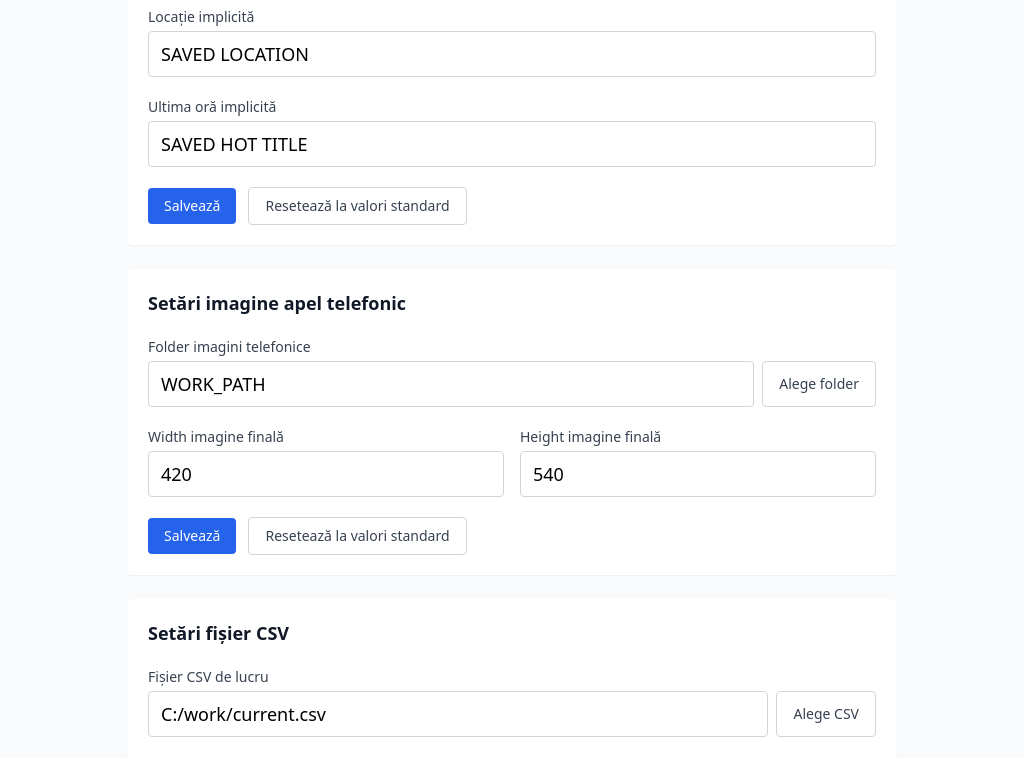
DefaultProjectSettingsPage › selects phone image work path through the service
(page scrolled)
Click the button "Alege folder": [819, 384] box x1=762 y1=361 x2=876 y2=407
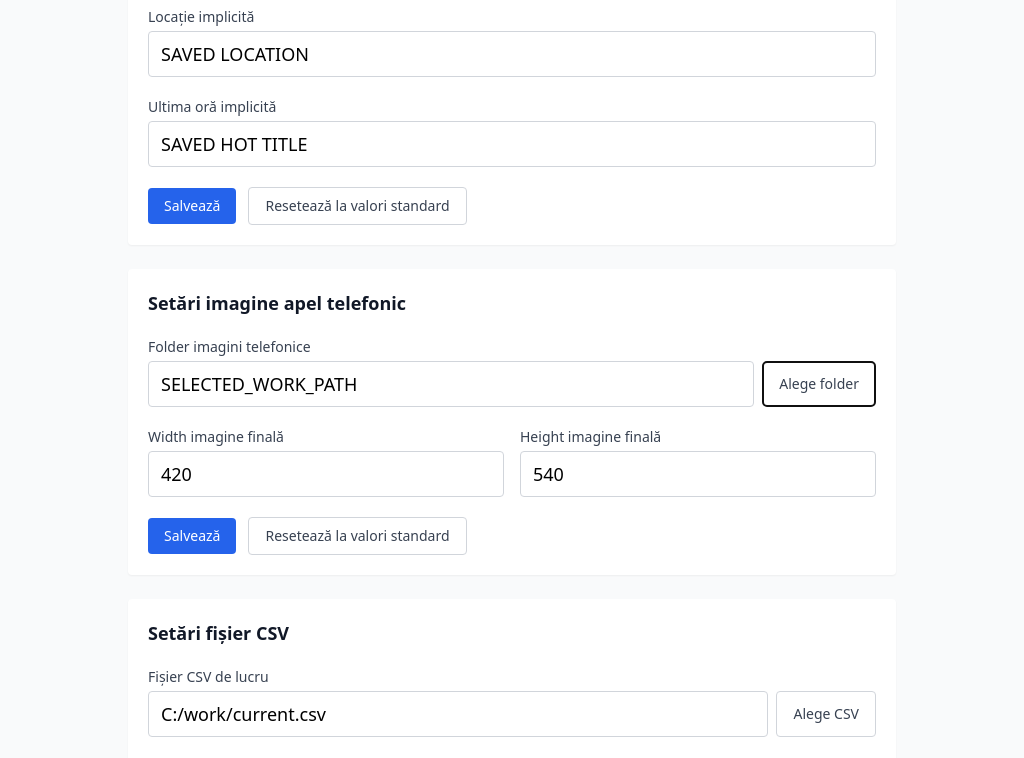
Expected: the field labelled "Folder imagini telefonice" holds "SELECTED_WORK_PATH", x1=148 y1=361 x2=754 y2=407
